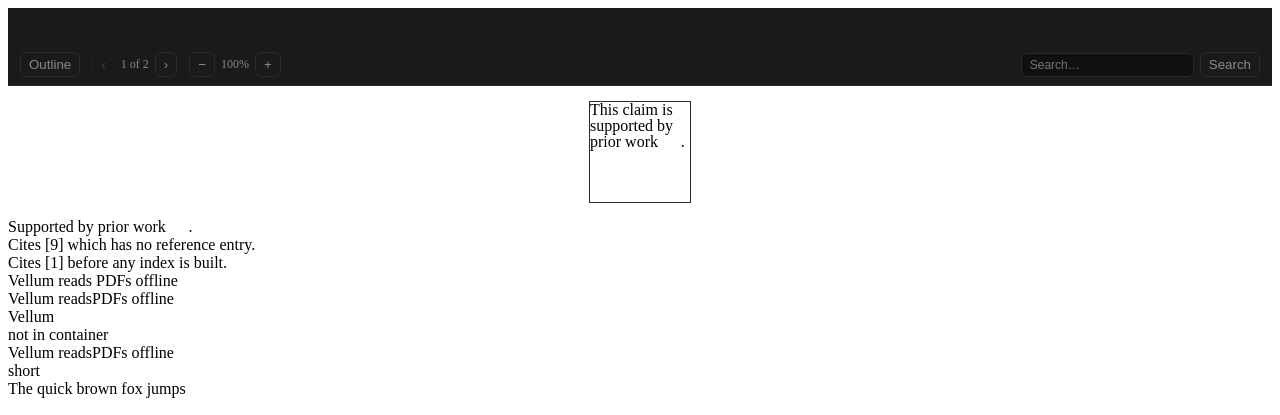
Reader inline citation click-through [P2-03] › renders a resolved [n] marker as a clickable button and jumps to its reference page on click
The image size is (1280, 415).
Expected: the text named "Page" reads "1 of 2", [121, 57, 149, 72]
Click the button "[1]" below "This claim is supported by prior work".
click(671, 142)  # box [662, 134, 681, 150]
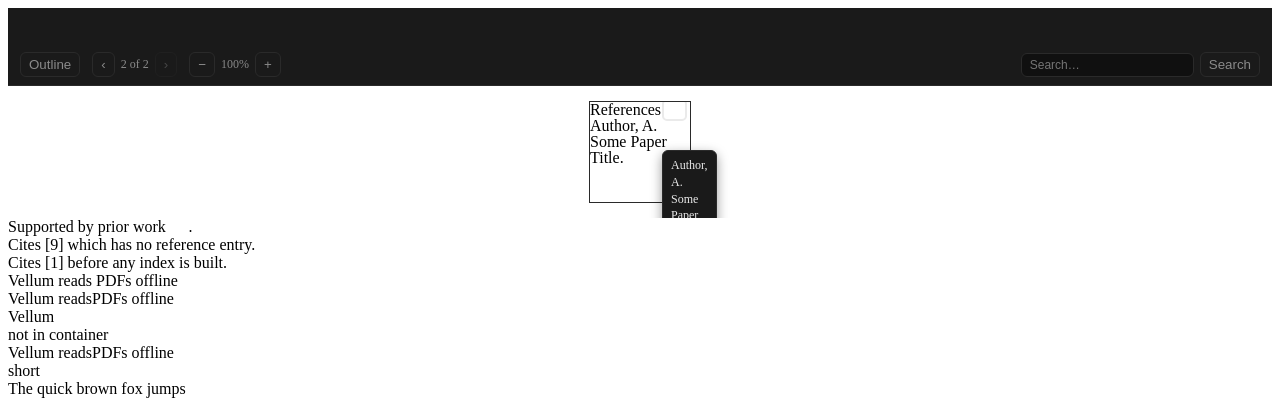
Expected: the text named "Page" reads "2 of 2", [121, 57, 149, 72]
